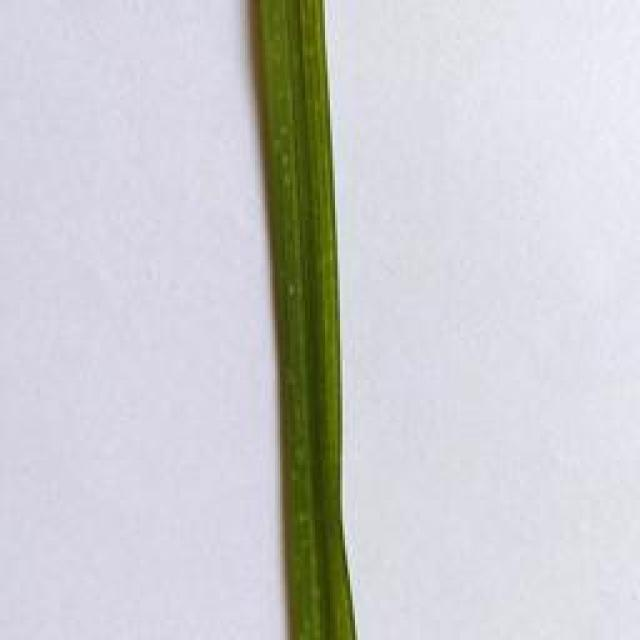Healthy-Plant: (250, 0, 368, 640)
